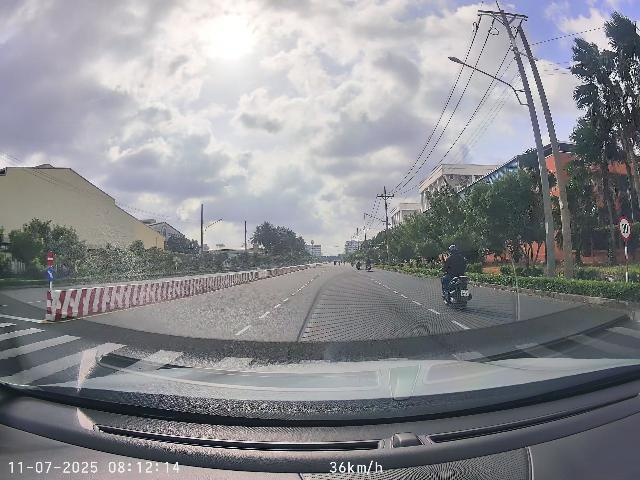127-toc-do-toi-da-30: (618, 216, 632, 240)
